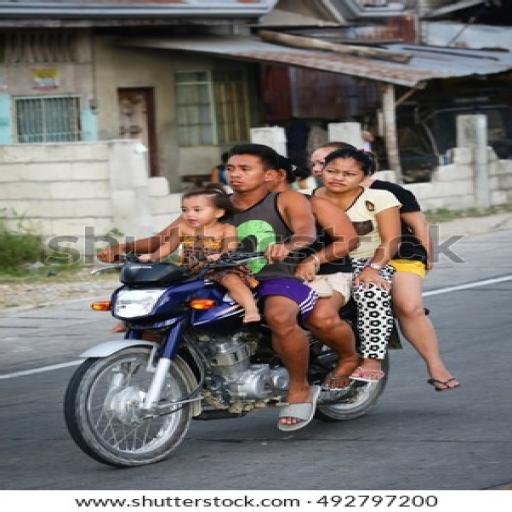overloading: (60, 242, 398, 467)
